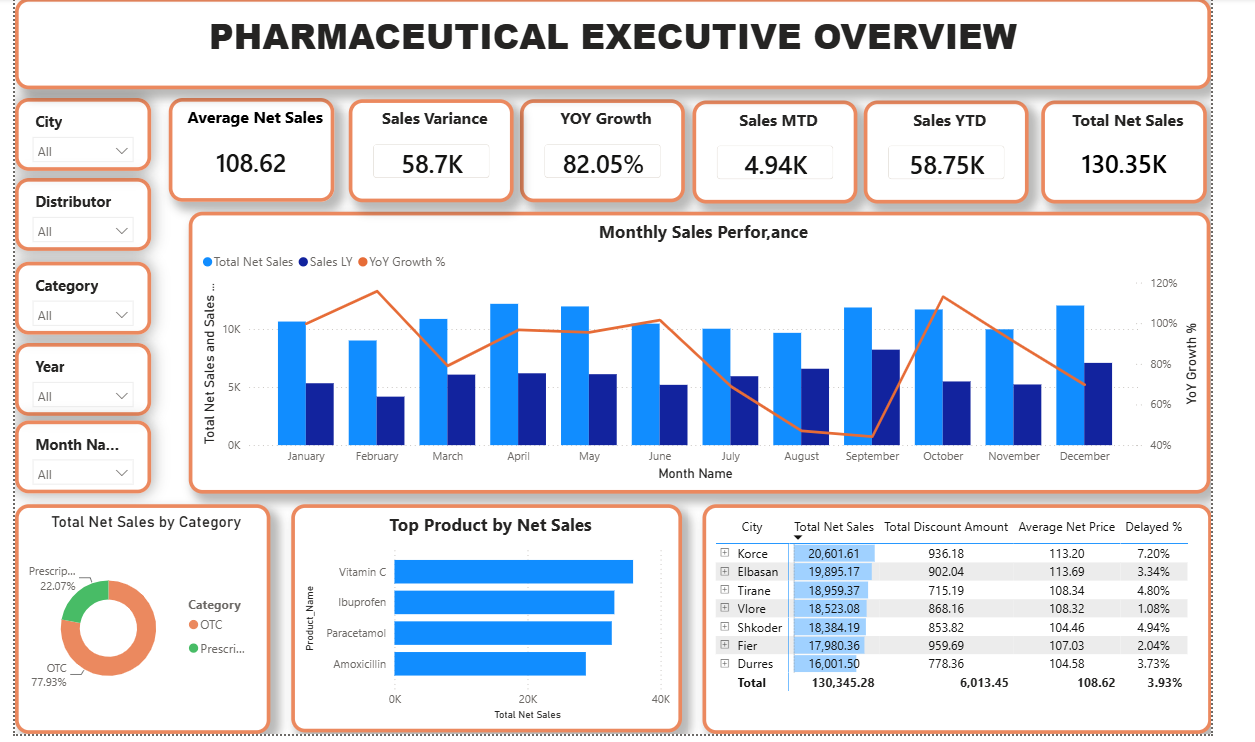

The page's visual inventory and layout, read from the dashboard file:
{"tool":"powerbi","page":{"name":"Executive Summary","canvas":[1300,800],"ordinal":0},"visuals":[{"type":"cardVisual","title":"Average Net Sales","fields":{"Data":["_measures.Average Net Price"]},"box":[167.2,108.7,179.8,112.9],"z":0},{"type":"cardVisual","title":"YOY Growth","fields":{"Data":["_measures.YoY Growth %"]},"box":[549.1,110.1,179,112],"z":1000},{"type":"cardVisual","title":"Sales MTD","fields":{"Data":["_measures.Sales MTD"]},"box":[735.9,111.5,179,112],"z":2000},{"type":"cardVisual","title":"Sales YTD","fields":{"Data":["_measures.Sales YTD"]},"box":[922.6,111.5,179,112],"z":3000},{"type":"cardVisual","title":"Total Net Sales","fields":{"Data":["_measures.Total Net Sales"]},"box":[1114.9,111.5,180,112],"z":4000},{"type":"slicer","fields":{"Values":["Pharmacy dataset.Distributor"]},"box":[0,195.1,147.7,79],"z":5000},{"type":"slicer","fields":{"Values":["Pharmacy dataset.City"]},"box":[0,108.7,147.7,79.4],"z":6000},{"type":"slicer","fields":{"Values":["Calendar Table.Year"]},"box":[0,375,147.7,79],"z":7000},{"type":"slicer","fields":{"Values":["Pharmacy dataset.Category"]},"box":[0,287.1,147.7,79],"z":8000},{"type":"slicer","fields":{"Values":["Calendar Table.Month Name"]},"box":[0,459.9,147.7,79.4],"z":9000},{"type":"lineClusteredColumnComboChart","title":"Monthly Sales Perfor,ance","fields":{"Category":["Calendar Table.Month Name"],"Y":["_measures.Total Net Sales","_measures.Sales LY"],"Y2":["_measures.YoY Growth %"]},"box":[189.5,232.7,1110.7,306.6],"z":10000},{"type":"clusteredBarChart","title":"Top Product by Net Sales","fields":{"Category":["Pharmacy dataset.Product_Name"],"Y":["_measures.Total Net Sales"]},"box":[299.6,550.5,425.1,248.1],"z":11000},{"type":"donutChart","fields":{"Category":["Pharmacy dataset.Category"],"Y":["_measures.Total Net Sales"]},"box":[0,550.5,277.3,249.5],"z":12000},{"type":"pivotTable","fields":{"Rows":["Pharmacy dataset.City","Pharmacy dataset.Distributor"],"Values":["_measures.Total Net Sales","_measures.Total Discount Amount","_measures.Average Net Price","_measures.Delayed %"]},"box":[747,550.5,553.3,249.5],"z":13000},{"type":"textbox","box":[0,0,1300.3,98.9],"z":14000},{"type":"cardVisual","title":"Sales Variance","fields":{"Data":["_measures.Sales Variance"]},"box":[362.4,110.1,179,112],"z":15000}]}

Visuals, with their boxes in screenshot pixels (x1, y1, x2, y2):
"Average Net Sales" cardVisual: (left=169, top=96, right=334, bottom=199)
"YOY Growth" cardVisual: (left=519, top=97, right=682, bottom=200)
"Sales MTD" cardVisual: (left=689, top=99, right=853, bottom=201)
"Sales YTD" cardVisual: (left=860, top=99, right=1024, bottom=201)
"Total Net Sales" cardVisual: (left=1036, top=99, right=1201, bottom=201)
slicer - Pharmacy dataset.Distributor: (left=16, top=175, right=151, bottom=247)
slicer - Pharmacy dataset.City: (left=16, top=96, right=151, bottom=169)
slicer - Calendar Table.Year: (left=16, top=340, right=151, bottom=412)
slicer - Pharmacy dataset.Category: (left=16, top=259, right=151, bottom=332)
slicer - Calendar Table.Month Name: (left=16, top=417, right=151, bottom=490)
"Monthly Sales Perfor,ance" lineClusteredColumnComboChart: (left=190, top=210, right=1205, bottom=490)
"Top Product by Net Sales" clusteredBarChart: (left=290, top=500, right=679, bottom=727)
donutChart - Pharmacy dataset.Category x _measures.Total Net Sales: (left=16, top=500, right=270, bottom=728)
pivotTable - Pharmacy dataset.City x Pharmacy dataset.Distributor: (left=700, top=500, right=1206, bottom=728)
textbox: (left=16, top=0, right=1206, bottom=87)
"Sales Variance" cardVisual: (left=348, top=97, right=511, bottom=200)
